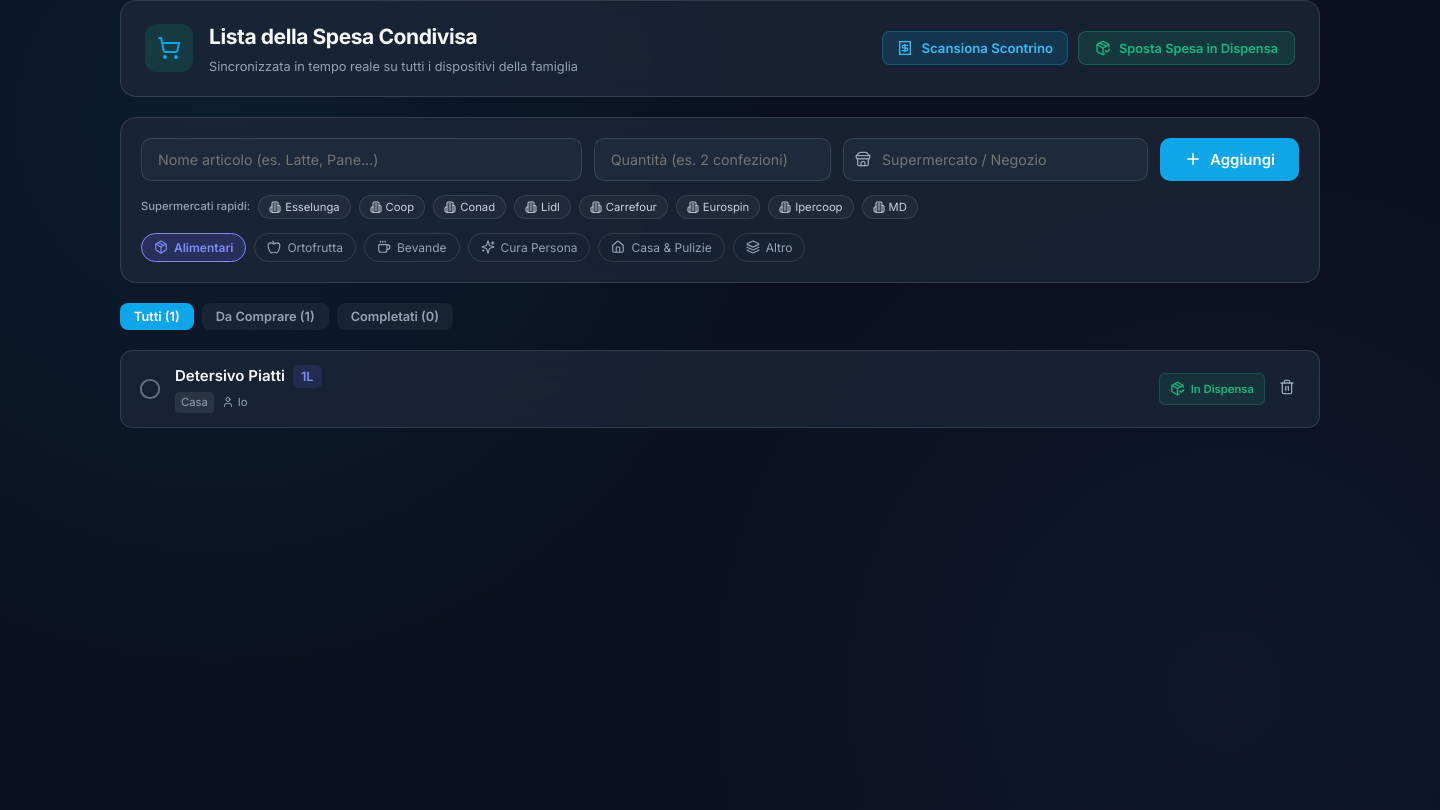
Scenario: ShoppingListView.vue › deletes an item when delete button is clicked
Step 1. Click the button with class "btn-delete" → [1287, 389], box top-left (1273, 373), bottom-right (1301, 405)
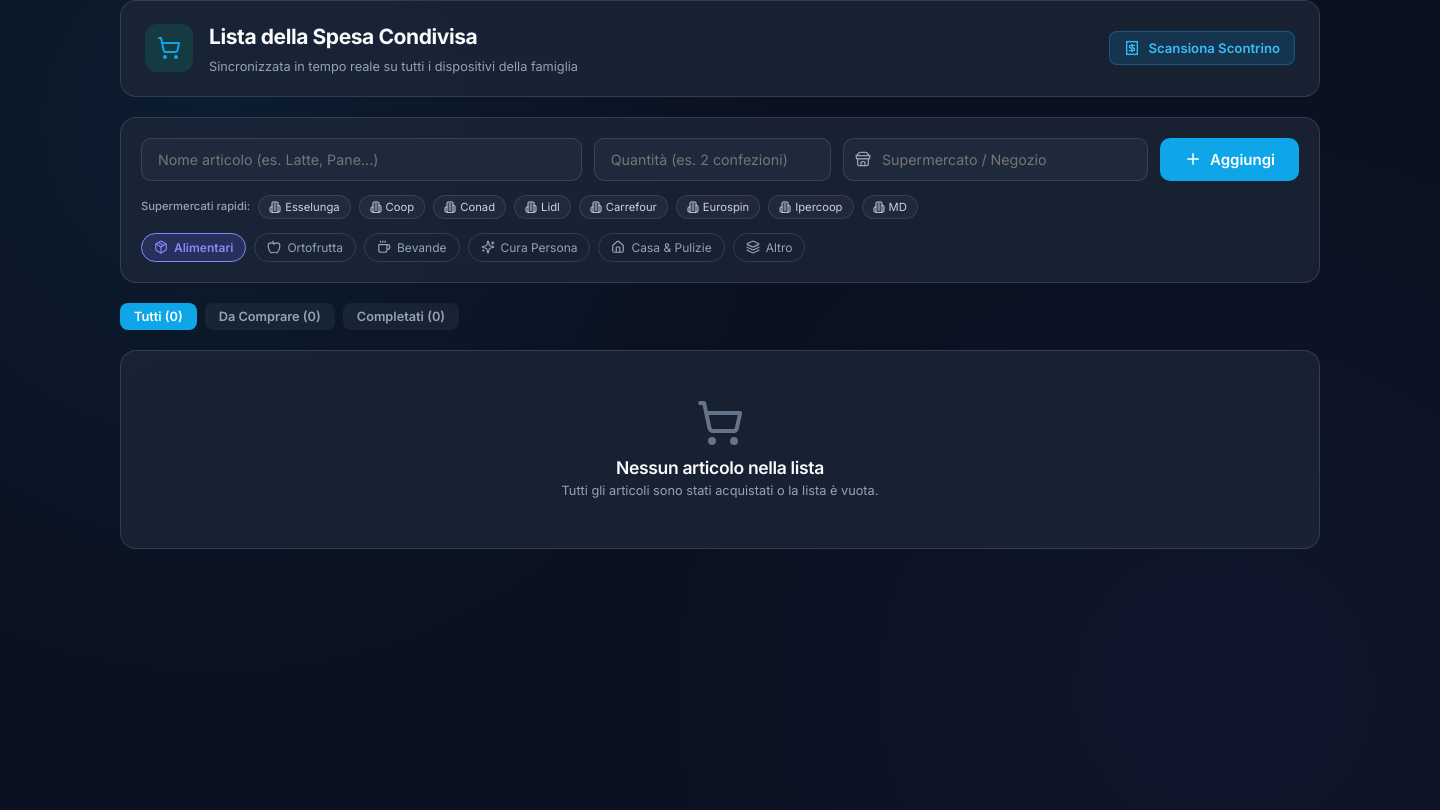
Now the text "Detersivo Piatti" is gone
